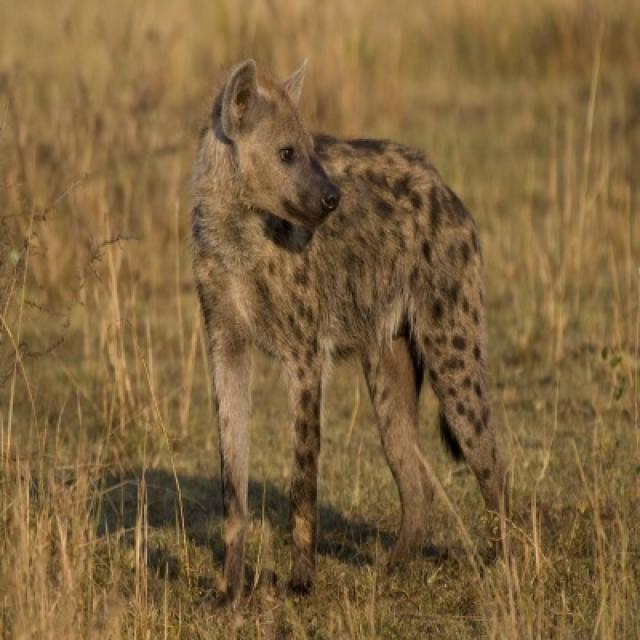hyena: (194, 61, 499, 586)
